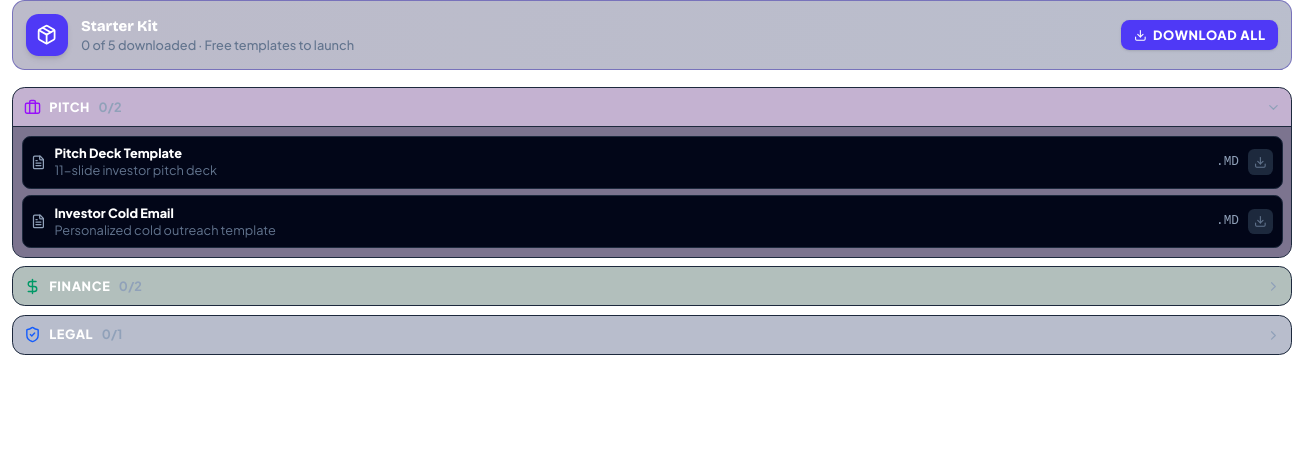
it: StarterKit › updates count to show all files downloaded
This screenshot has width=1304, height=455.
Click the button "Download All": x=1200, y=35 left=1121, top=20, right=1278, bottom=50
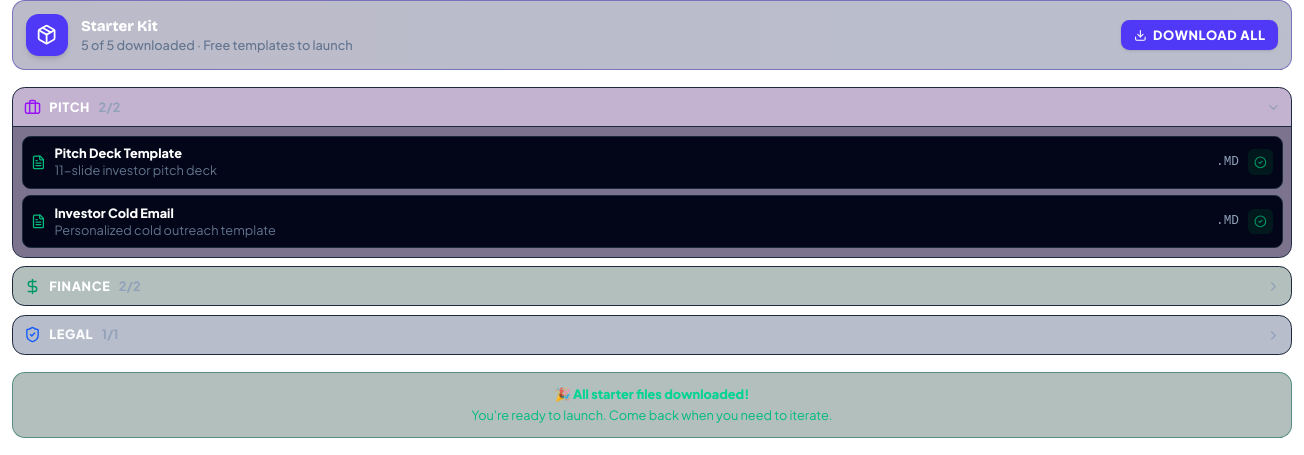
expect the text "5 of 5 downloaded · Free templates to launch" is shown: met, box left=81, top=37, right=353, bottom=54
